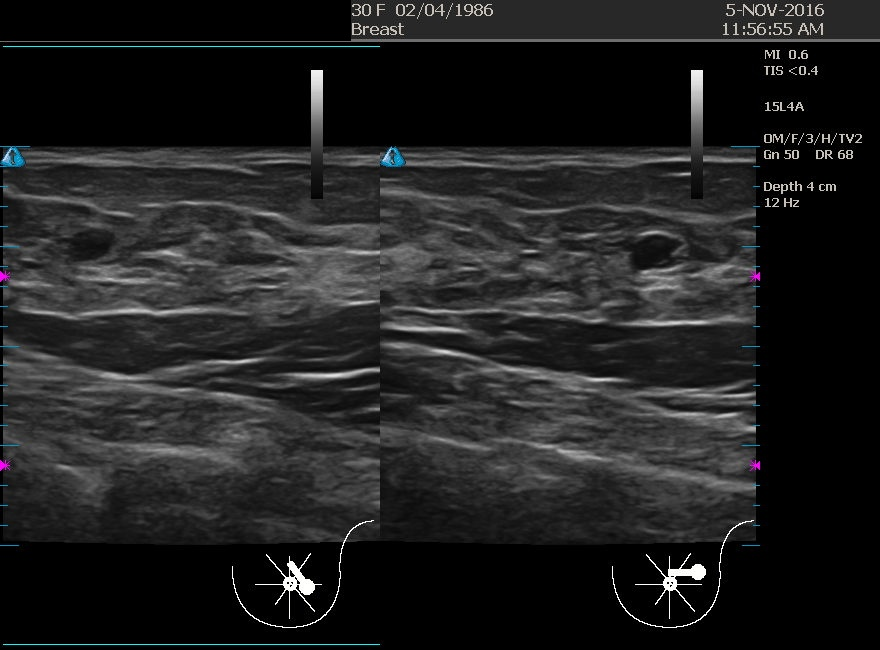BIRADS_2: (29, 150, 229, 350), (489, 152, 689, 352)
